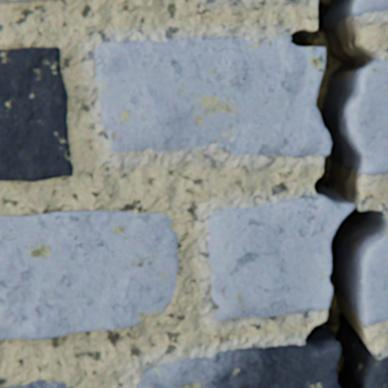brick: (0, 211, 179, 339), (0, 48, 73, 181), (0, 379, 68, 387), (0, 0, 54, 2)
broken_brick: (95, 37, 331, 158), (208, 195, 354, 319), (137, 343, 340, 387), (348, 58, 387, 175), (360, 229, 387, 325), (366, 355, 387, 387), (353, 0, 387, 17)
crack: (291, 0, 387, 387)
